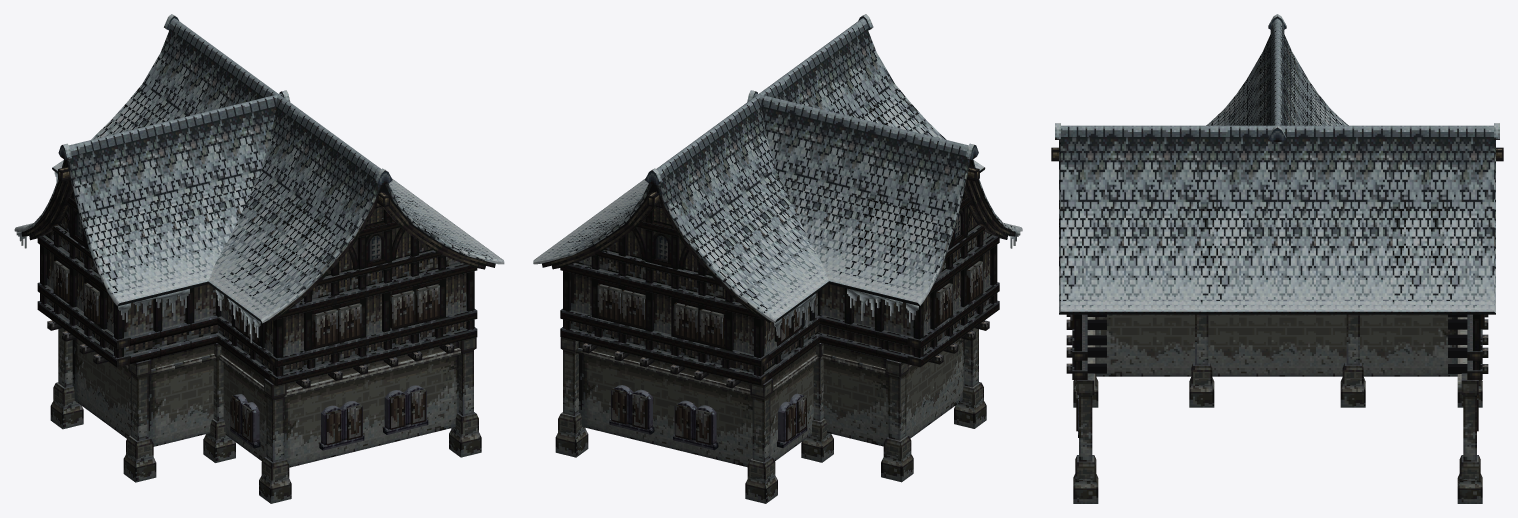
The model's file is EnvBdgMD_Snow_Mansion_A_Outdoor_B.FBX.
The picture shows the model from 3 angles, left to right: view 1: azimuth 30°, elevation 25°; view 2: azimuth 150°, elevation 25°; view 3: azimuth 270°, elevation 25°; orthographic projection. The views are drawn at different scales.
Parts seen in each view (by area): view 1: EnvBdgMD_Snow_Mansion_A_Outdoor_B; view 2: EnvBdgMD_Snow_Mansion_A_Outdoor_B; view 3: EnvBdgMD_Snow_Mansion_A_Outdoor_B.
Boxes of the visible parts, <box> form: EnvBdgMD_Snow_Mansion_A_Outdoor_B: <box>14,14,504,503</box>; EnvBdgMD_Snow_Mansion_A_Outdoor_B: <box>533,14,1022,503</box>; EnvBdgMD_Snow_Mansion_A_Outdoor_B: <box>1051,14,1503,503</box>.
Bounding box in the file's own units: 1066 × 941 × 1180.
1 material, 1 textured.
